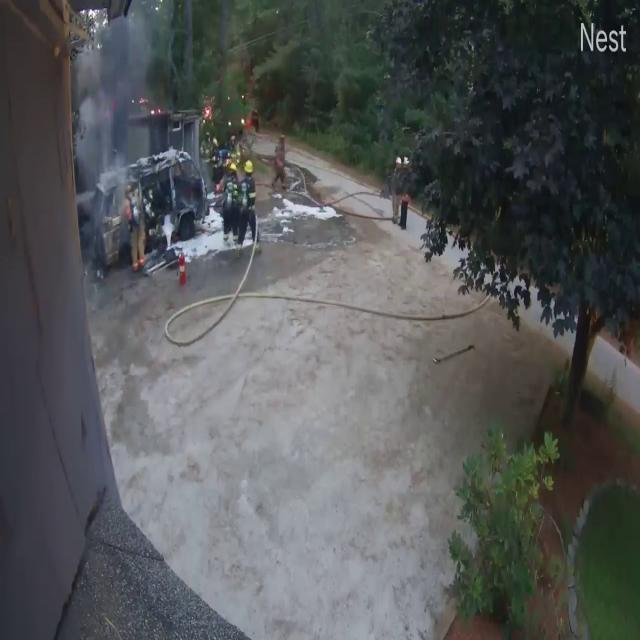Smoke: (75, 11, 148, 228)
